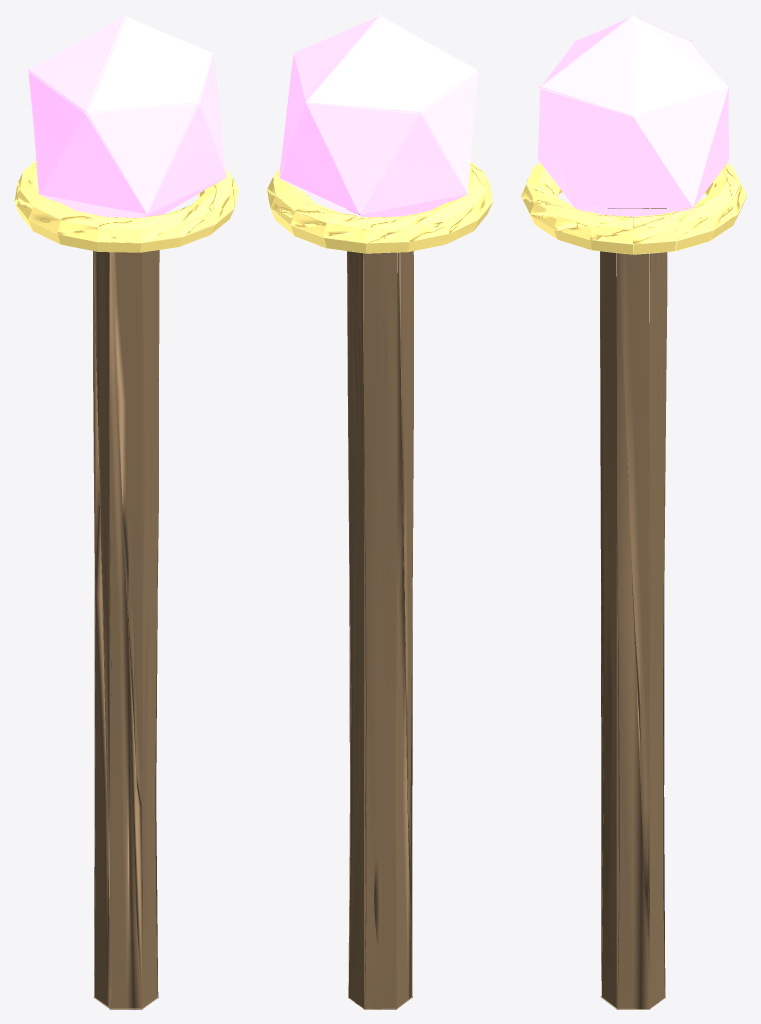
File: staff.glb
The picture shows the model from 3 angles, left to right: view 1: azimuth 30°, elevation 25°; view 2: azimuth 150°, elevation 25°; view 3: azimuth 270°, elevation 25°; orthographic projection.
Visible parts, largest first — view 1: StaffShaft; view 2: StaffShaft; view 3: StaffShaft.
Part boxes in pixels (x1,y1,x2,y2): StaffShaft: (14, 14, 238, 1009); StaffShaft: (267, 14, 492, 1009); StaffShaft: (521, 14, 746, 1009).
Bounding box in the file's own units: 0.4824 × 2.31 × 0.4794.
